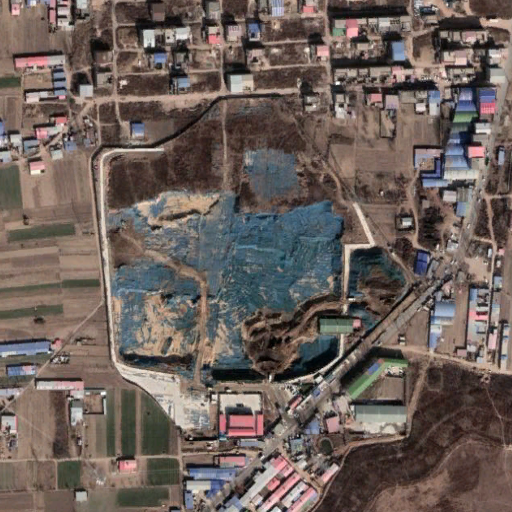cw: (105, 147, 409, 383)
